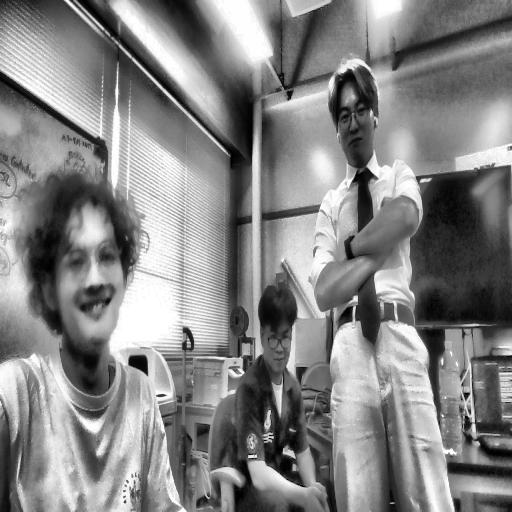Daifuku: (20, 166, 142, 356)
Not Daifuku: (326, 51, 388, 164), (257, 287, 300, 376)
